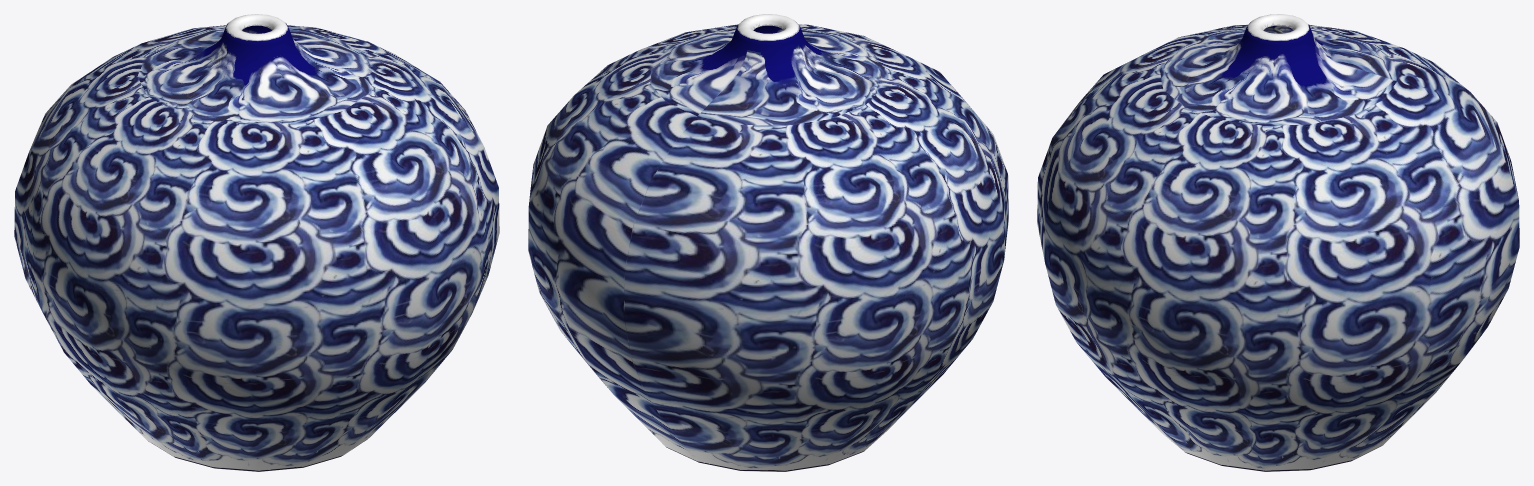
File: statut5.glb
3 views of the same model, side by side, from view 1: azimuth 30°, elevation 25°; view 2: azimuth 150°, elevation 25°; view 3: azimuth 270°, elevation 25° (orthographic).
Parts seen in each view (by area): view 1: Vase; view 2: Vase; view 3: Vase.
Part boxes in pixels (x1,y1,x2,y2): Vase: (14,14,499,471); Vase: (528,14,1008,471); Vase: (1037,14,1519,471).
Bounding box in the file's own units: 0.2283 × 0.21 × 0.2283.
Materials: 1 (1 with a texture image).
